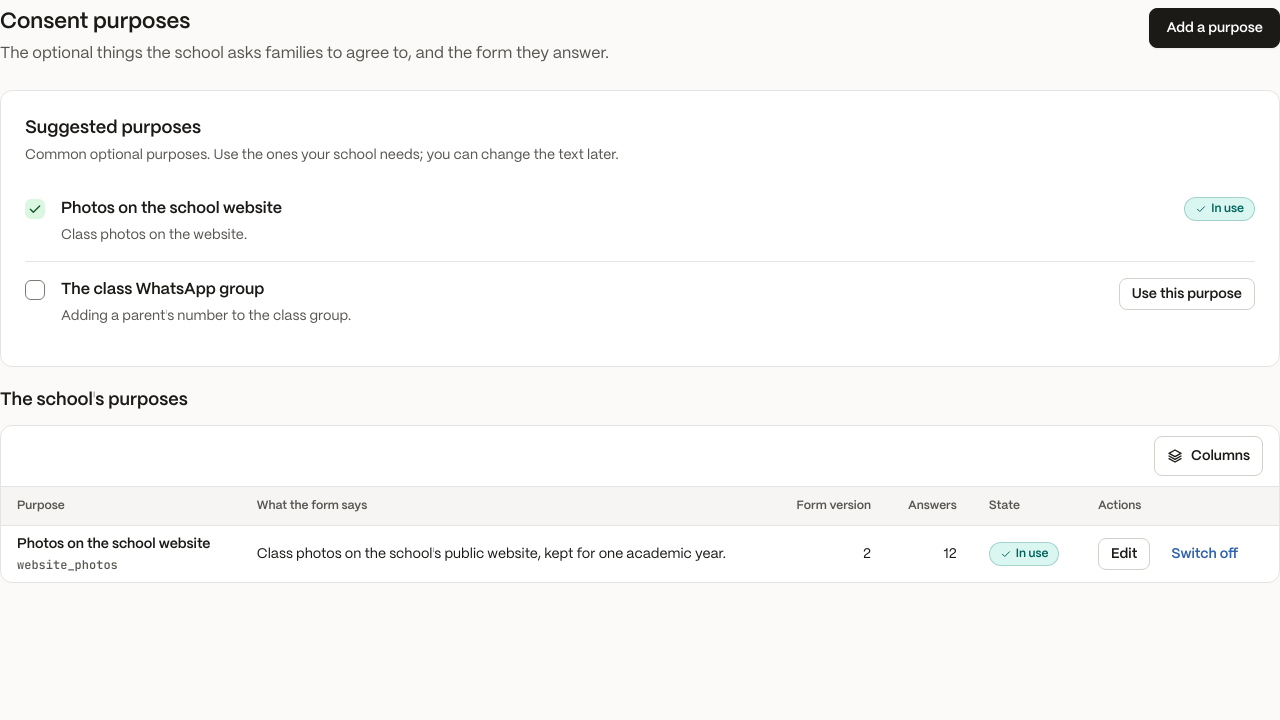
Test case: US-2601 consent purposes › editing an answered purpose says it makes the next version of the form
Click the button "Edit" at (1124, 554), box [1098,538,1150,570]
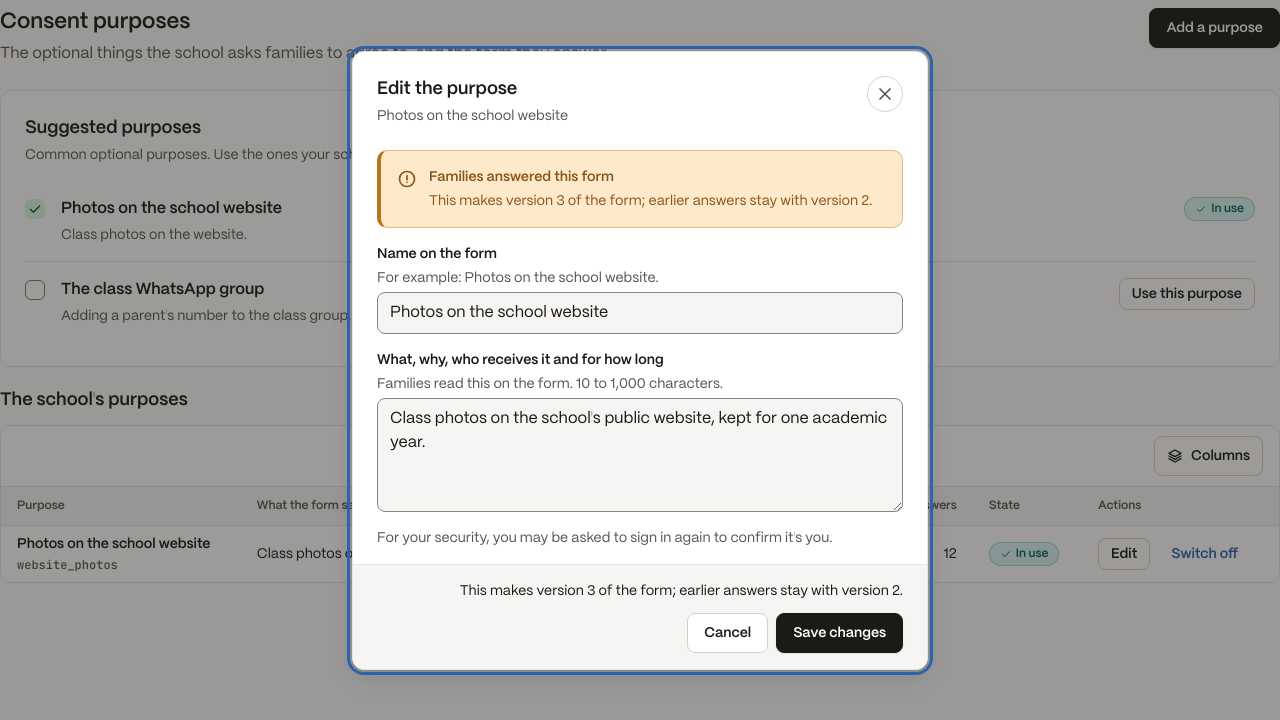
Expected: the text "This makes version 3 of the form; earlier answers stay with version 2." below "Families answered this form" is shown, [429,194,872,208]
